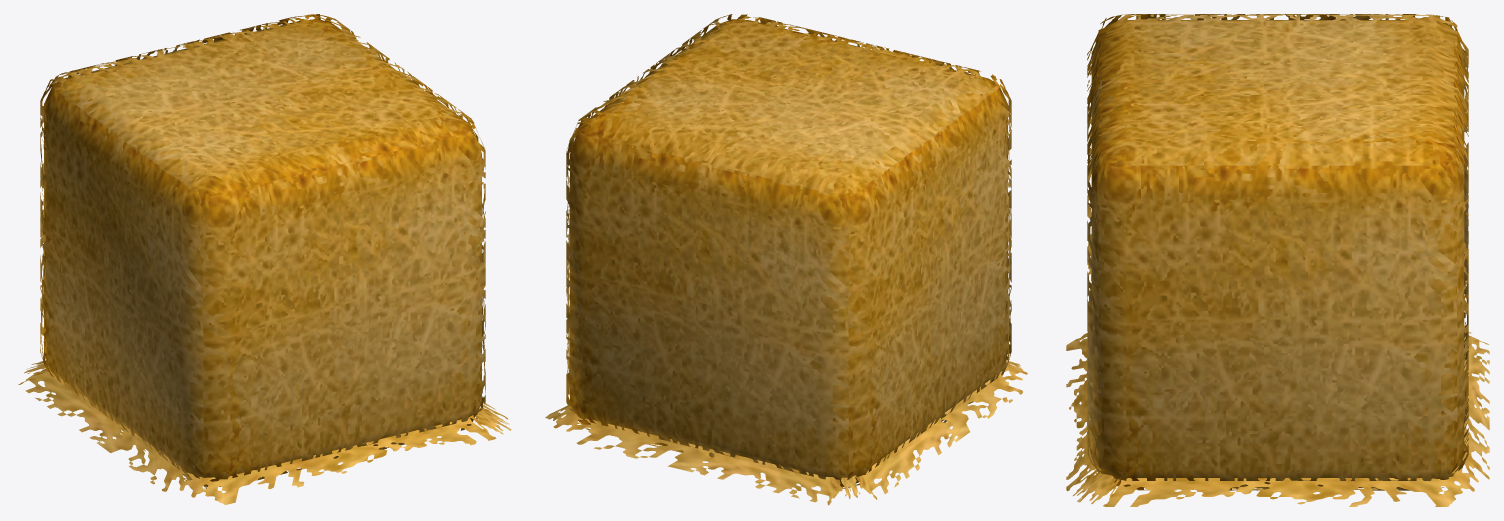
File: HAYBAIL.fbx
3 views of the same model, side by side, from view 1: azimuth 30°, elevation 25°; view 2: azimuth 150°, elevation 25°; view 3: azimuth 270°, elevation 25° (orthographic). The views are drawn at different scales.
Visible parts, largest first — view 1: HAYBAIL; view 2: HAYBAIL; view 3: HAYBAIL.
Boxes of the visible parts, box(x1,y1,x2,y2) form: HAYBAIL: box(18, 14, 511, 504); HAYBAIL: box(545, 14, 1027, 505); HAYBAIL: box(1066, 14, 1489, 506).
Size of the model in its own units: 8843 by 7969 by 8843.
Materials: 2 (2 with a texture image).
